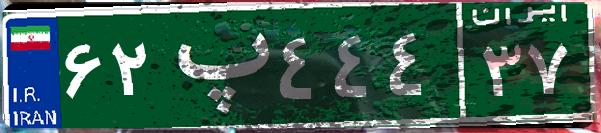2: (110, 28, 158, 105)
3: (475, 38, 525, 113)
4: (385, 28, 445, 110), (273, 28, 330, 110), (330, 28, 385, 110)
6: (57, 26, 110, 107)
7: (525, 38, 570, 115)
پ: (158, 15, 273, 115)
